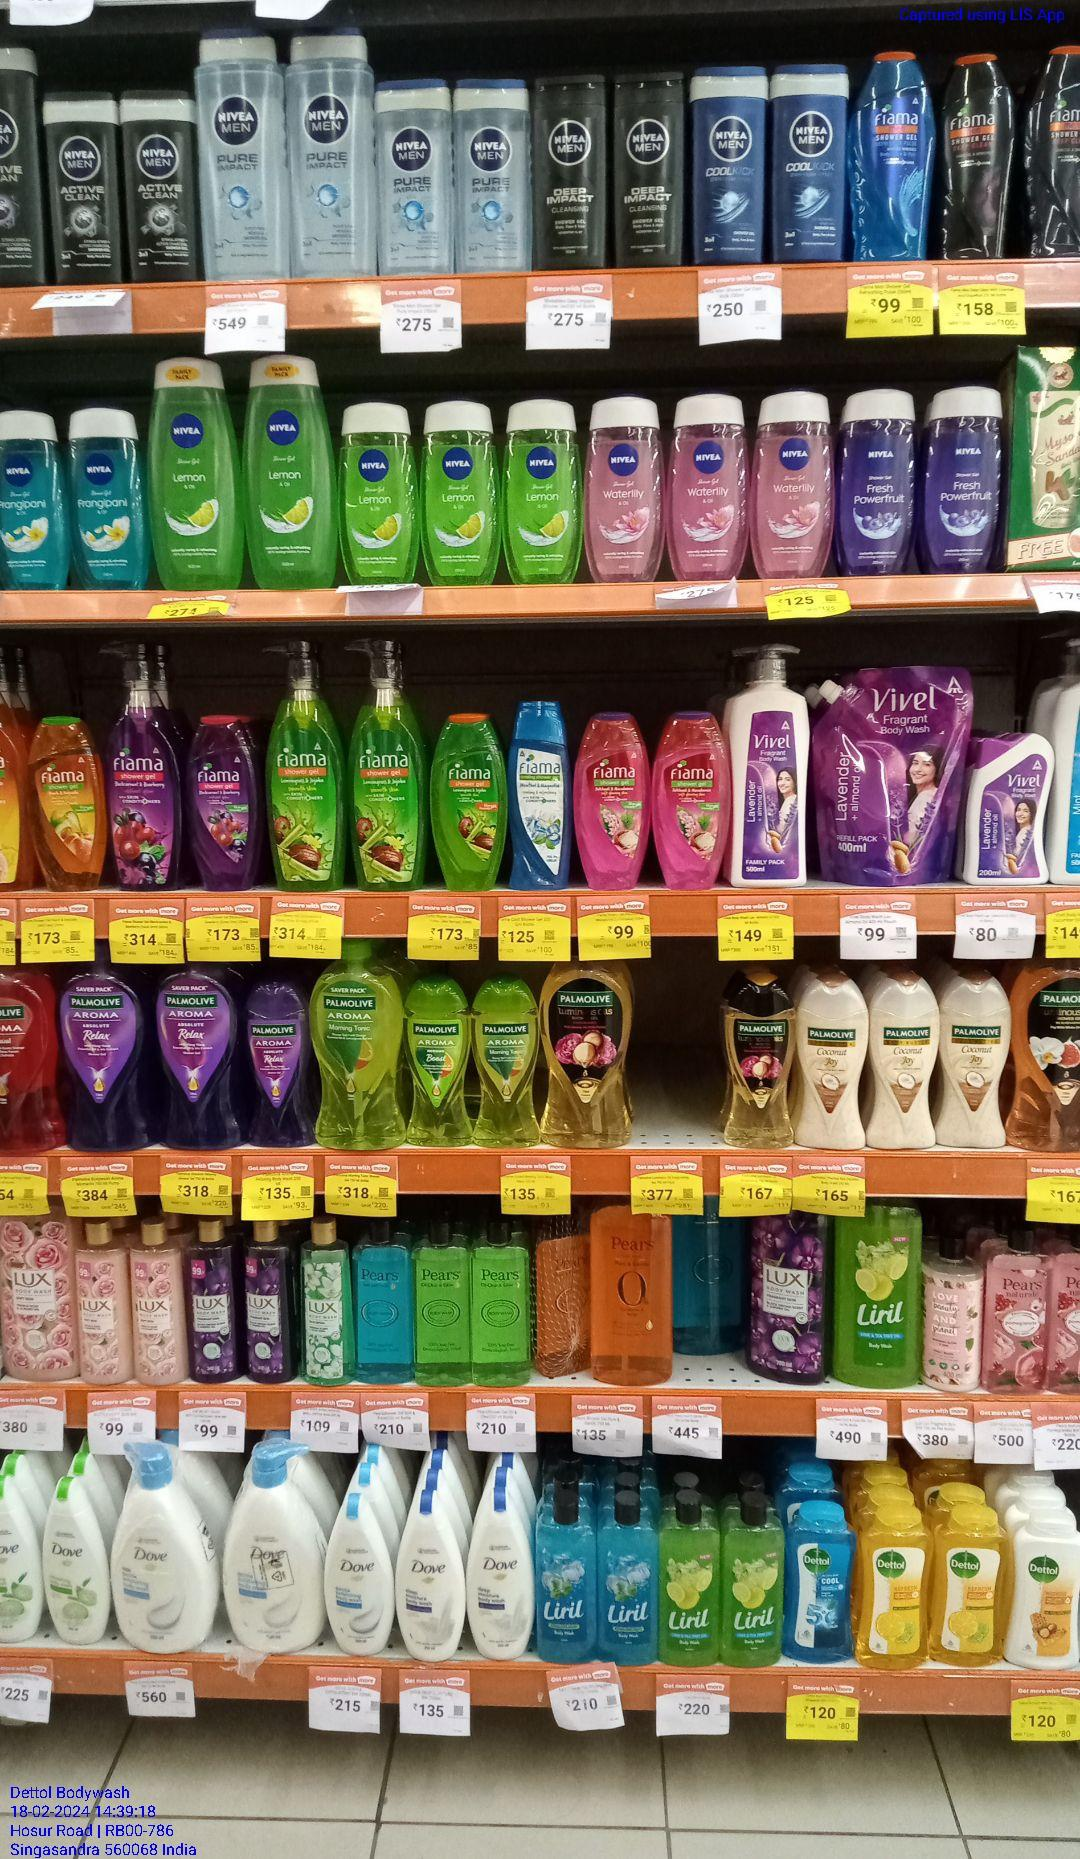Dettol_Bodywash_Cool: (784, 1500, 852, 1661)
Dettol_Bodywash_Refresh: (856, 1505, 931, 1670), (933, 1507, 1005, 1669)
Dettol_Nourish_Body_Wash_250ML: (1004, 1509, 1079, 1673)
Dove_Deep_Moisture_Body_Wash_250ML: (396, 1489, 464, 1661), (468, 1487, 534, 1661)
Dove_Gentle_Exfoliating_Body_Wash_250ML: (324, 1496, 392, 1657)
Dove_Refreshing_Body_Wash_250ML: (45, 1472, 107, 1644)
Fiama_Shower_Gel_Lemongrass_and_Jojoba_250ML: (435, 710, 501, 895)
Fiama_Shower_Gel_Patchouli_and_Macadamia_250ML: (571, 706, 649, 891), (653, 707, 729, 888)
Fiama_Shower_Gel_Peach_and_Avocado_250ML: (32, 714, 109, 887)
Liril_Cooling_Mint_Body_Wash_250ML: (535, 1493, 600, 1669), (603, 1487, 657, 1664)
Liril_Lime_and_Tea_Tree_Oil_Body_Wash_250ML: (658, 1491, 721, 1669), (726, 1494, 783, 1669)
Lux_Black_Orchid_Scent_and_Juniper_Oil_Body_Wash_245ML: (189, 1210, 238, 1383), (242, 1224, 291, 1382)
Lux_Body_Wash_Skin_Detox_Freesia_Scent_and_Alove_Vera_245ML: (300, 1220, 351, 1385)
Nivea_Shower_Gel_Frangipani_and_Oil_250ML: (0, 401, 73, 586), (72, 410, 141, 589)
Nivea_Shower_Gel_Fresh_Powerfruit_250ML: (928, 388, 1004, 572), (843, 392, 914, 575)
Nivea_Shower_Gel_Lemon_and_Oil_250ML: (246, 351, 338, 591), (152, 360, 240, 593), (342, 397, 422, 585), (427, 397, 498, 585), (509, 401, 582, 581)
Nivea_Shower_Gel_Waterlily_and_Oil_250ML: (755, 392, 838, 586), (669, 392, 746, 575), (588, 396, 660, 582)
Palmolive_Aroma_Morning_Tonic_Shower_Gel_250ML: (404, 977, 474, 1149), (477, 974, 543, 1149)
Palmolive_Aroma_Relax_250ML: (238, 974, 306, 1142)
Palmolive_Coconut_Joy_Exfoliating_Body_Wash_250ML: (940, 968, 1005, 1151), (800, 974, 865, 1149), (873, 974, 936, 1154)
Palmolive_Luminous_Oils_Invigorating_Macadamia_Oil_With_Peony_250ML: (724, 969, 795, 1151)
Pears_Naturale_Aloe_Vera_Body_Wash_250ML: (414, 1217, 472, 1388), (473, 1221, 530, 1387)
Pears_Pure_Glycerin_and_Mint_Extracts_Body_Wash_250ML: (357, 1221, 414, 1385)
